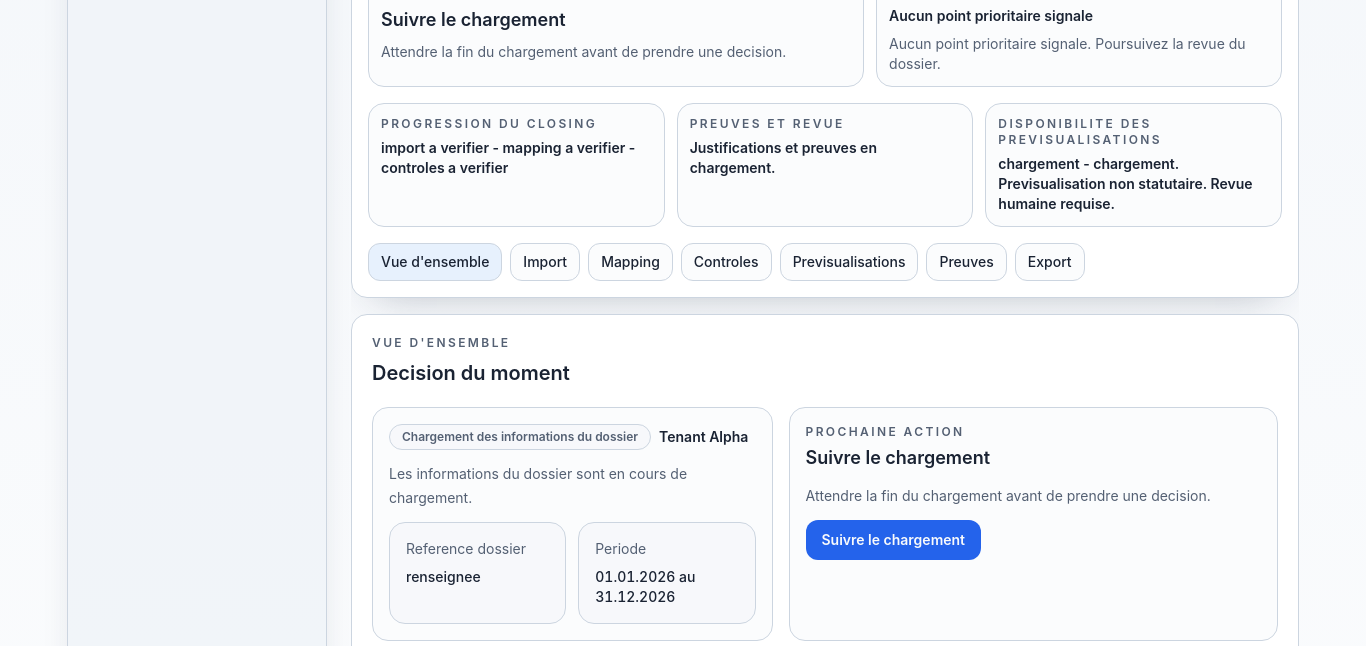
Test: router financial summary › shows chargement synthese financiere while the request is pending and keeps the other blocks visible
(page scrolled)
Click the tab "Previsualisations".
click(849, 262)  # box [780,243,918,281]
(page scrolled)
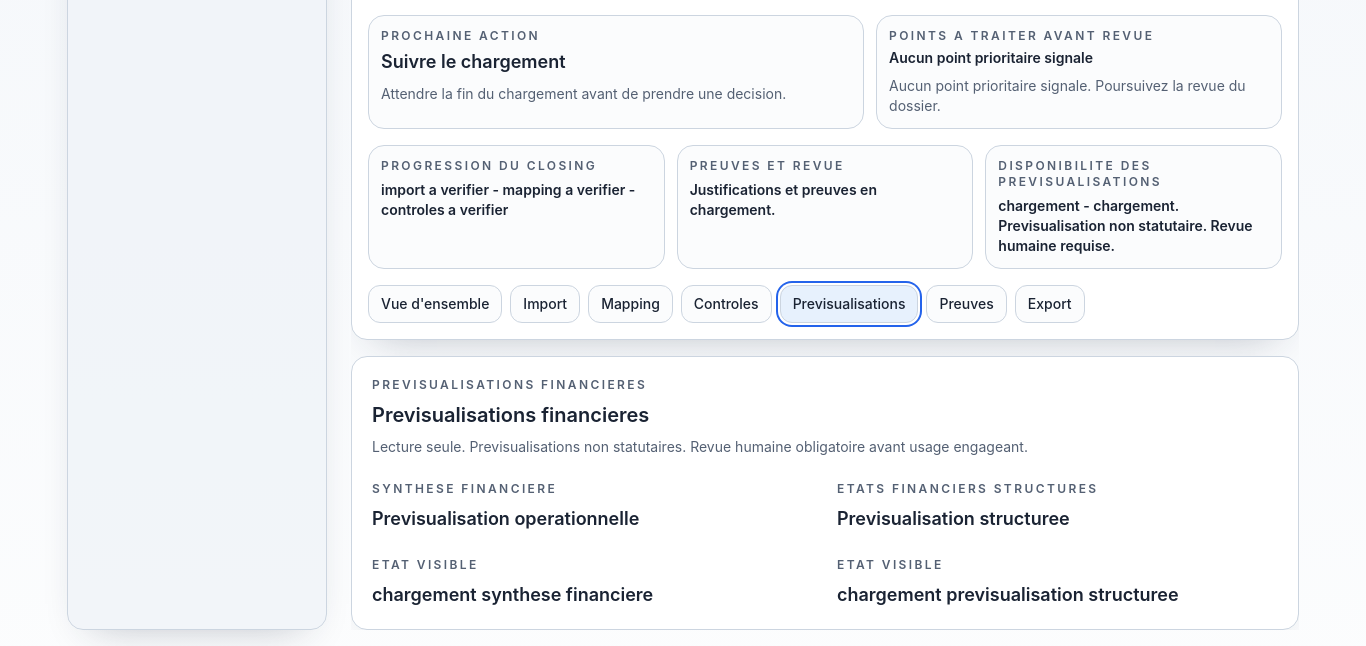
Expected: the text "chargement synthese financiere" is shown, [372,584,653,605]
Expected: the text "Synthese financiere" is shown, [372,481,557,496]
Expected: the text "Etats financiers structures" is shown, [837,481,1098,496]
